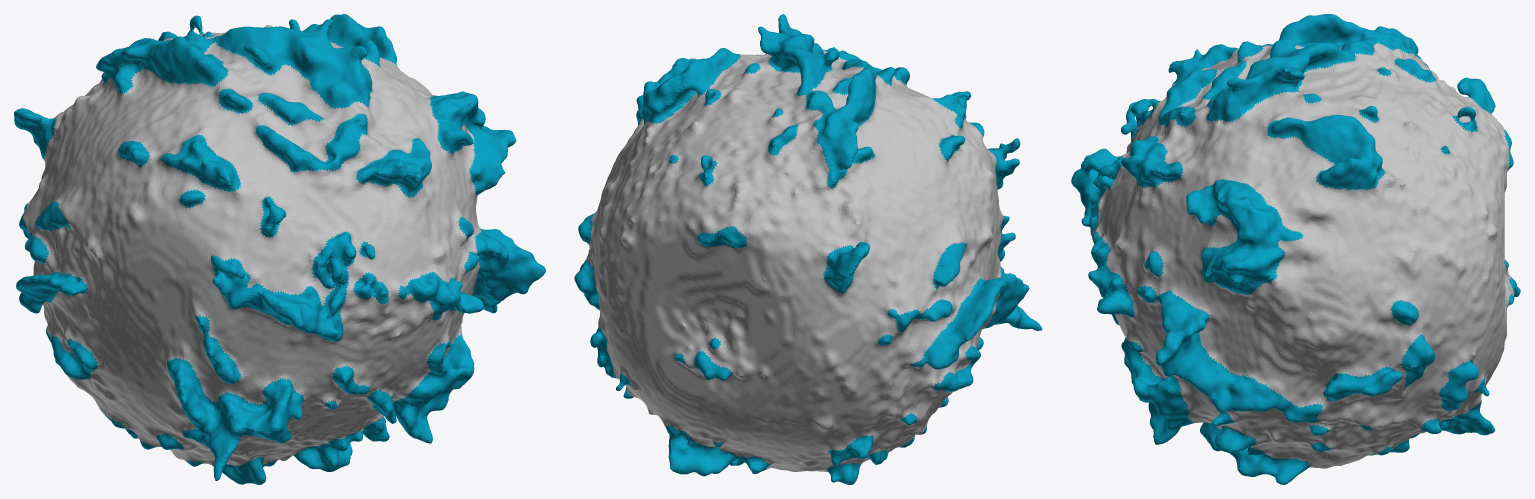
3 views of the same model, side by side, from view 1: azimuth 30°, elevation 25°; view 2: azimuth 150°, elevation 25°; view 3: azimuth 270°, elevation 25° (orthographic). The views are drawn at different scales.
Bounding box in the file's own units: 164 × 157 × 155.
